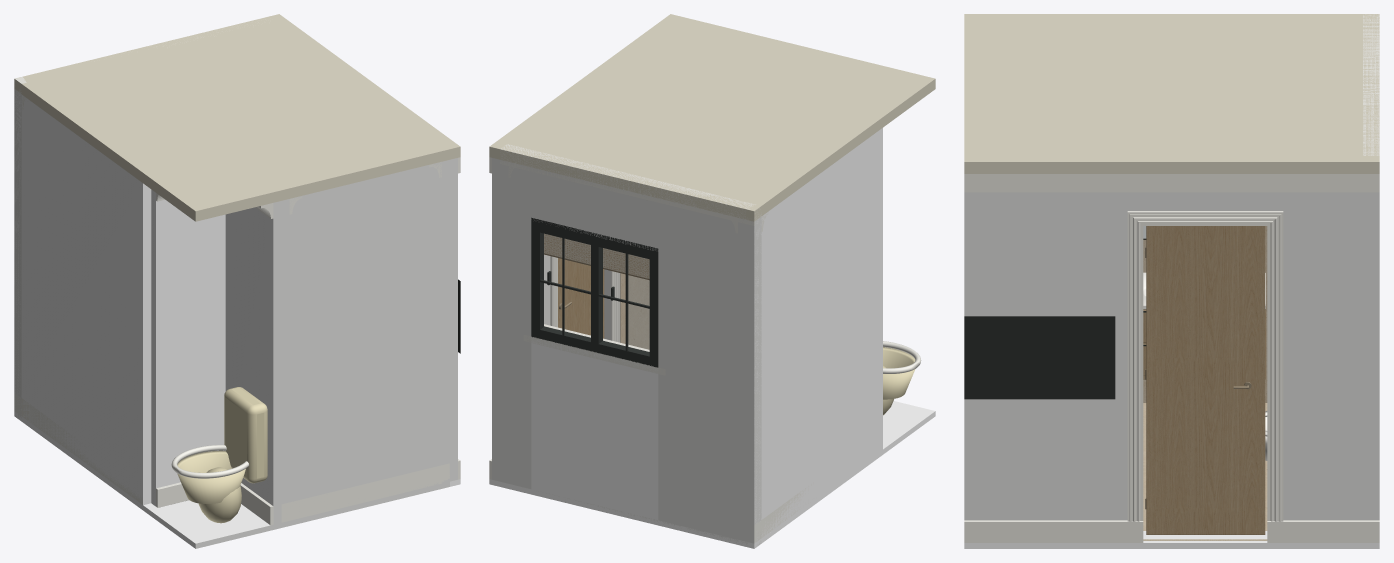
The picture shows the model from 3 angles, left to right: view 1: azimuth 30°, elevation 25°; view 2: azimuth 150°, elevation 25°; view 3: azimuth 270°, elevation 25°; orthographic projection. The views are drawn at different scales.
Parts seen in each view (by area): view 1: Proposal revision | Principal en suite south | end.001, Proposal revision | Bathroom en suite | end.001, Principal en suite | ceiling.001, Proposal revision | Bathroom jog | end.001, Proposal revision | Bathroom east | end.001, Bathroom | ceiling.001, Proposal revision | Bathroom | floor.001, Family bathroom toilet cistern.001, Principal en suite south | skirting end-1.001, Landing continuous ceiling.001, Proposal revision | Principal en suite east | end.001, Proposal revision | Bathroom balcony | end.001 (+8 smaller); view 2: Principal en suite | ceiling.001, Proposal revision | Bathroom en suite | end.001, Proposal revision | En suite balcony | pier 0.001, Proposal revision | En suite balcony | below 0.001, Proposal revision | En suite balcony | end.001, Bathroom | ceiling.001, Proposal revision | En suite balcony | lintel 0.001, Proposal revision | Bathroom balcony | end.001, Proposal revision | Principal en suite east | pier 0.001, Roof join | En suite balcony masonry head.001, Proposal revision | Bathroom | floor.001, Guest 01 | ensuite door leaf.001 (+16 smaller); view 3: Principal en suite | ceiling.001, Proposal revision | Principal en suite east | end.001, Guest 01 | ensuite door leaf.001, Proposal revision | Principal en suite east | pier 0.001, Trim comparison | Principal en suite east opening 1 side 1 m, Guest 01 | fixed TV chassis.001, Circulation detail | Cove Principal en suite east 1.001, Principal bedroom | ceiling.001, Bathroom | ceiling.001, Principal en suite east | skirting end1.001, Proposal revision | Principal bedroom | floor.001, Principal en suite east | skirting pier 01.001 (+6 smaller).
Part boxes in pixels (<box>): Proposal revision | Principal en suite south | end.001: <box>281,160,449,512</box>; Proposal revision | Bathroom en suite | end.001: <box>14,91,151,505</box>; Principal en suite | ceiling.001: <box>23,16,444,186</box>; Proposal revision | Bathroom jog | end.001: <box>151,189,225,506</box>; Proposal revision | Bathroom east | end.001: <box>225,199,289,524</box>; Bathroom | ceiling.001: <box>14,77,281,221</box>; Proposal revision | Bathroom | floor.001: <box>14,411,281,548</box>; Family bathroom toilet cistern.001: <box>224,387,267,483</box>; Principal en suite south | skirting end-1.001: <box>281,463,449,522</box>; Landing continuous ceiling.001: <box>277,146,449,200</box>; Proposal revision | Principal en suite east | end.001: <box>449,158,457,481</box>; Proposal revision | Bathroom balcony | end.001: <box>14,89,21,415</box>; Principal en suite | ceiling.001: <box>500,20,874,219</box>; Proposal revision | Bathroom en suite | end.001: <box>738,128,882,542</box>; Proposal revision | En suite balcony | pier 0.001: <box>658,199,746,541</box>; Proposal revision | En suite balcony | below 0.001: <box>531,337,658,519</box>; Proposal revision | En suite balcony | end.001: <box>500,160,531,488</box>; Bathroom | ceiling.001: <box>746,57,935,221</box>; Proposal revision | En suite balcony | lintel 0.001: <box>531,167,658,250</box>; Proposal revision | Bathroom balcony | end.001: <box>746,216,761,543</box>; Proposal revision | Principal en suite east | pier 0.001: <box>492,158,550,481</box>; Roof join | En suite balcony masonry head.001: <box>500,144,752,219</box>; Proposal revision | Bathroom | floor.001: <box>746,401,935,548</box>; Guest 01 | ensuite door leaf.001: <box>558,258,604,338</box>; Principal en suite | ceiling.001: <box>975,18,1379,155</box>; Proposal revision | Principal en suite east | end.001: <box>964,192,1143,520</box>; Guest 01 | ensuite door leaf.001: <box>1146,226,1265,534</box>; Proposal revision | Principal en suite east | pier 0.001: <box>1267,192,1379,520</box>; Trim comparison | Principal en suite east opening 1 side 1 m: <box>1127,211,1283,542</box>; Guest 01 | fixed TV chassis.001: <box>964,316,1115,399</box>; Circulation detail | Cove Principal en suite east 1.001: <box>964,174,1379,192</box>; Principal bedroom | ceiling.001: <box>964,156,1379,173</box>; Bathroom | ceiling.001: <box>964,14,1379,61</box>; Principal en suite east | skirting end1.001: <box>964,520,1143,542</box>; Proposal revision | Principal bedroom | floor.001: <box>964,537,1379,548</box>; Principal en suite east | skirting pier 01.001: <box>1267,520,1379,542</box>.
Bounding box in the file's own units: 2.11 × 2.57 × 2.5.
24 materials, 5 textured.
